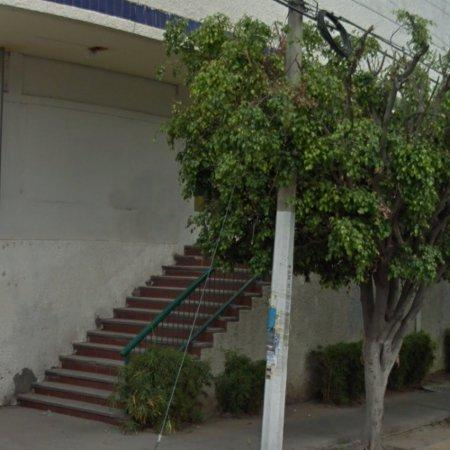stairs: (17, 247, 263, 426)
